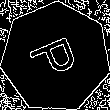P_NE: (26, 31, 85, 84)
